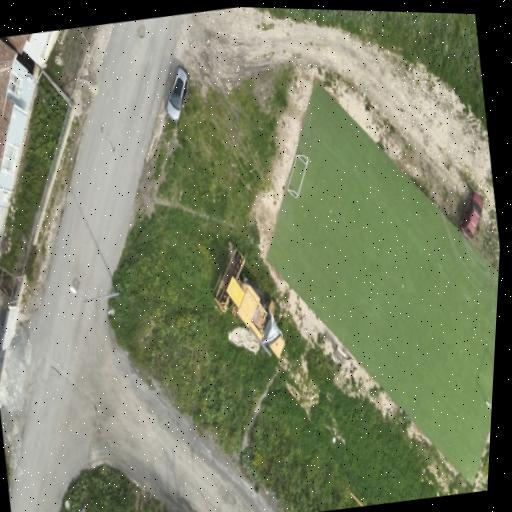car: (166, 66, 188, 121), (460, 191, 482, 238)
harvester: (214, 247, 284, 357)
